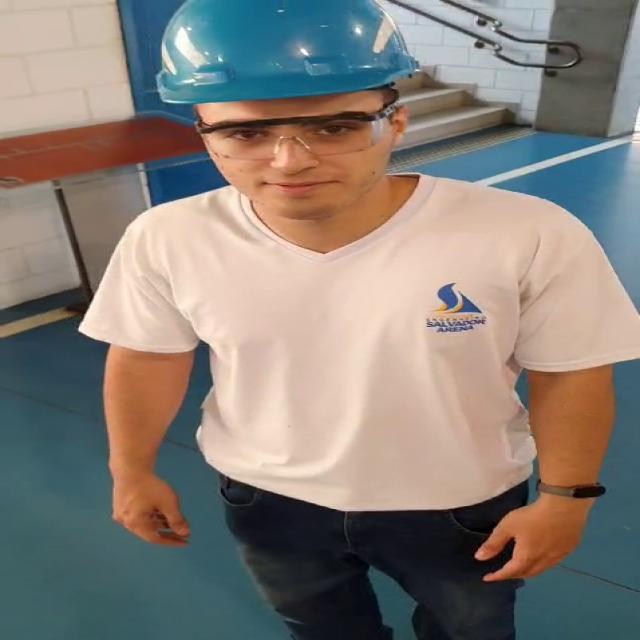oculos-epi: (197, 105, 394, 160)
